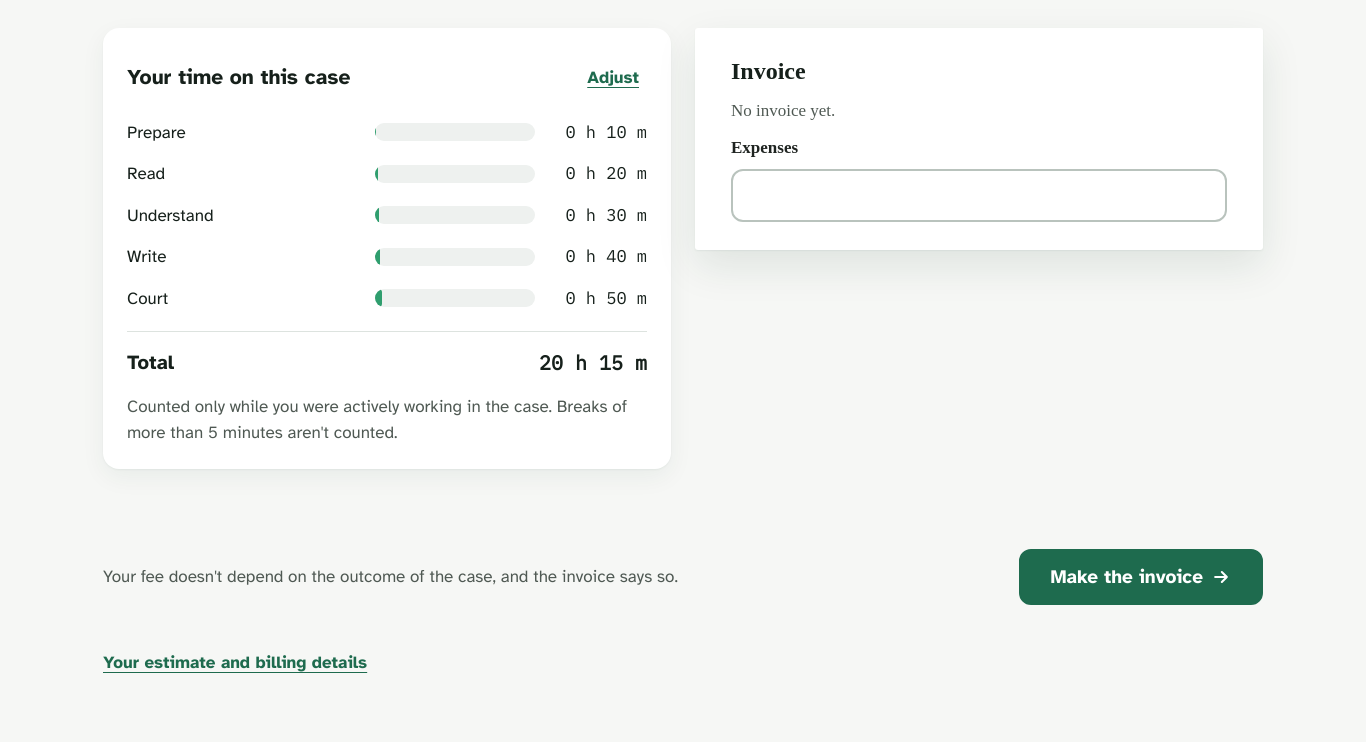
Scenario: making an invoice refused with no_hourly_rate is explained
The image size is (1366, 742).
(page scrolled)
Click the button "Make the invoice" at (1141, 577), box [1018,549,1263,605]
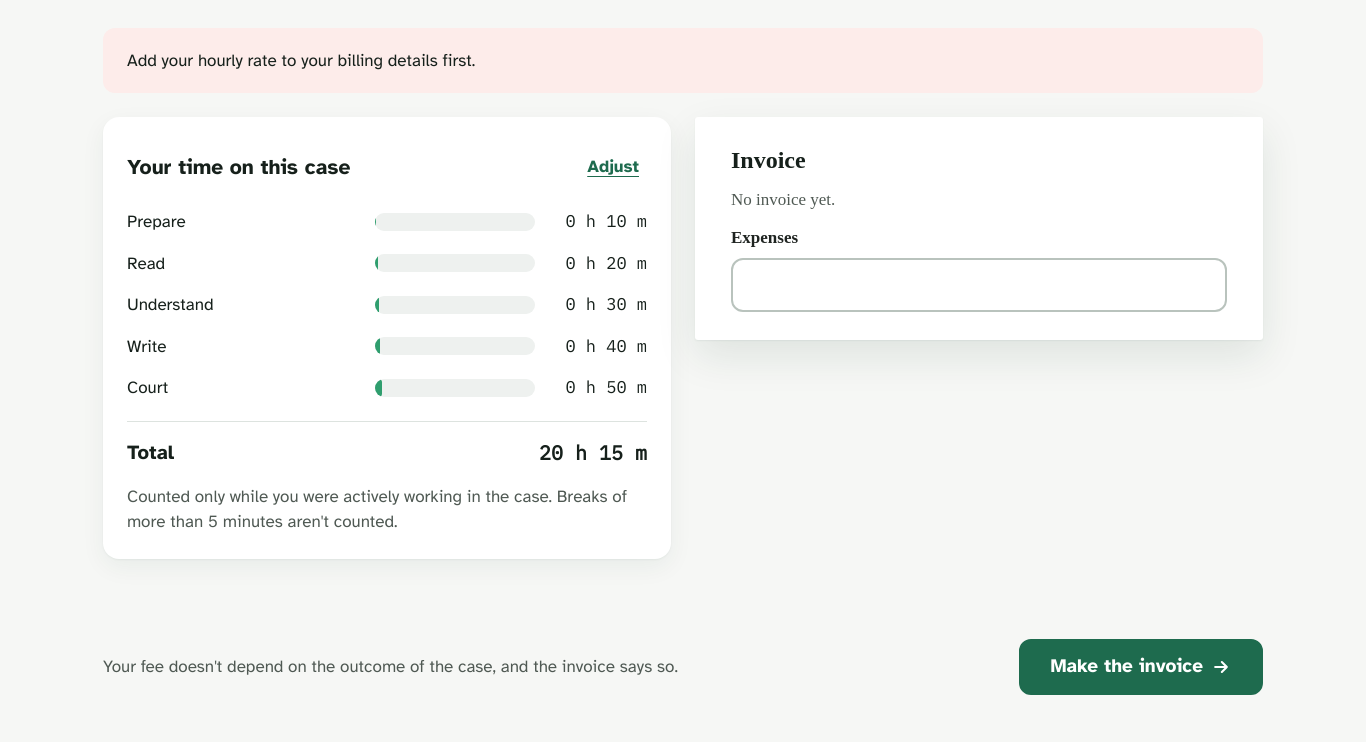
Check: the text "Add your hourly rate to your billing details first." is shown, box [127,50,475,70]
